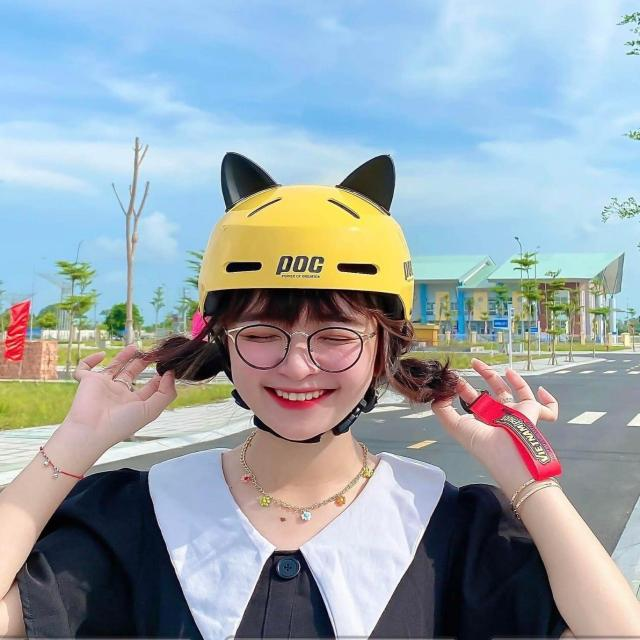helmet: (197, 152, 414, 317)
